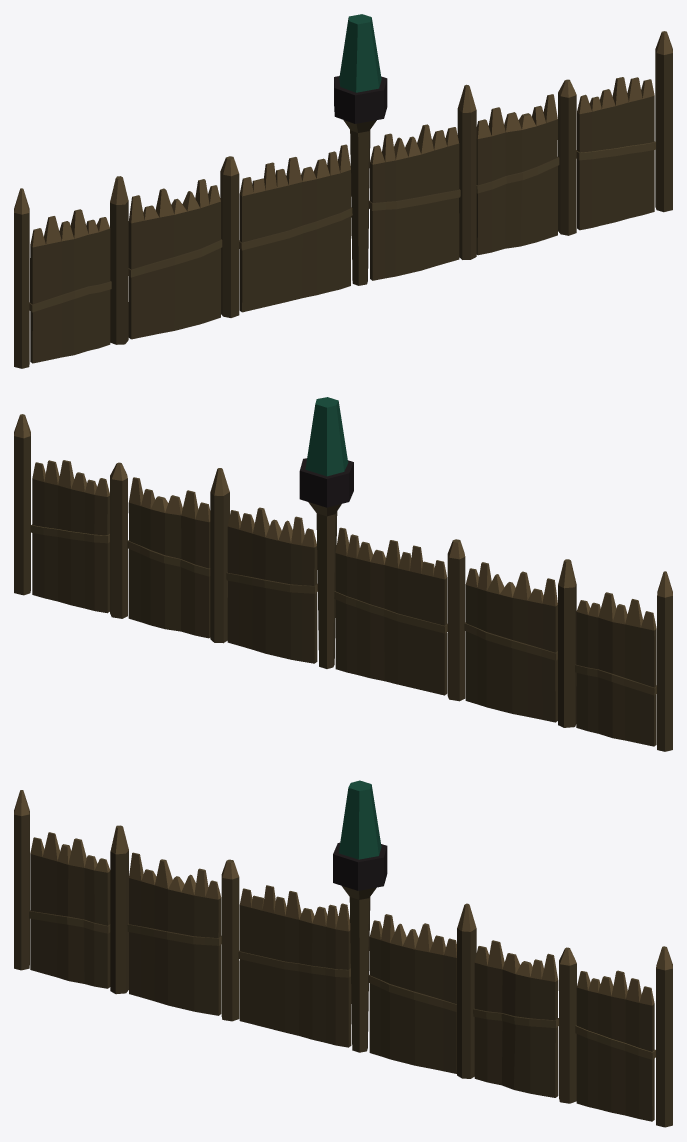
Rendered from PalisadeComplete.fbx.
3 renders of one model, top to bottom at view 1: azimuth 30°, elevation 25°; view 2: azimuth 150°, elevation 25°; view 3: azimuth 330°, elevation 25°, orthographic.
Parts seen in each view (by area): view 1: Palisade; view 2: Palisade; view 3: Palisade.
Boxes of the visible parts, x1,y1,x2,y2 form: Palisade: (14, 14, 672, 368); Palisade: (14, 397, 672, 751); Palisade: (14, 780, 672, 1127).
Bounding box in the file's own units: 477 × 182 × 32.56.
